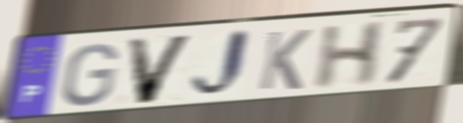7: (385, 15, 445, 86)
G: (59, 42, 121, 109)
H: (311, 19, 390, 93)
J: (188, 26, 253, 104)
K: (256, 28, 314, 93)
V: (124, 33, 197, 108)
